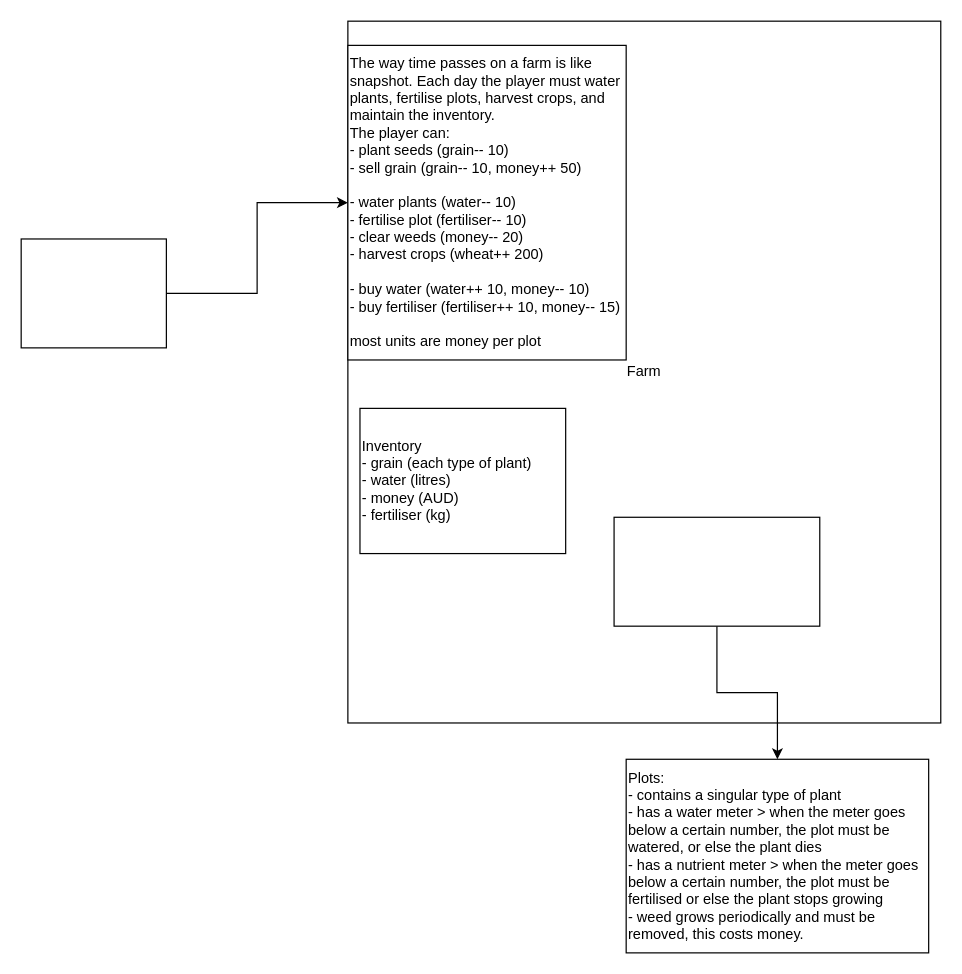
Some shapes in this 962 by 974 pixel diagram are drawn without their labels. Here are the shapes that lost their labels. From the top down, the box of each, then its label:
(20, 238, 166, 348): Player (farmer)
(613, 516, 820, 626): The farm contains a 2D array of plots that can be added and removed.
